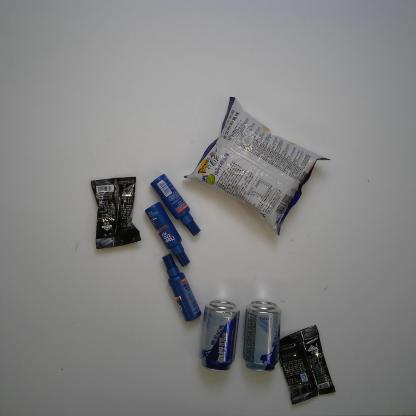Alcohol: (198, 300, 241, 372), (243, 299, 282, 374)
Instant Drink: (276, 323, 336, 407), (90, 174, 142, 252)
Personal Hygiene: (149, 172, 202, 237), (144, 202, 191, 267), (160, 252, 202, 323)
Puffed Food: (183, 97, 331, 235)
